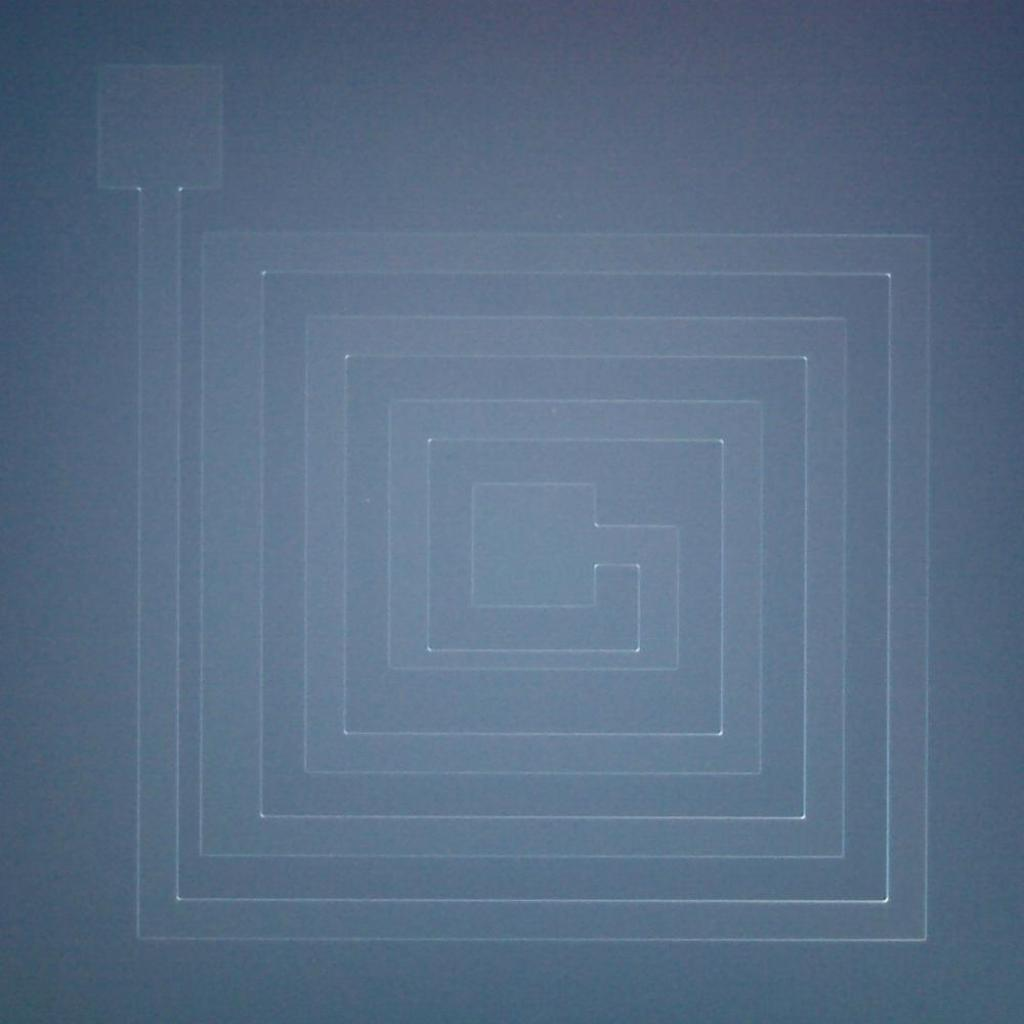fat circuit: (197, 217, 269, 869)
thin circuit: (366, 631, 688, 686)
